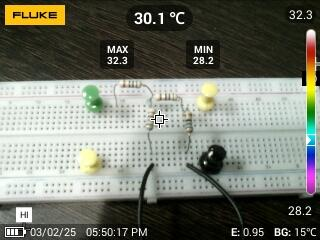resistor: (143, 105, 156, 133), (153, 91, 180, 103), (183, 109, 195, 135), (117, 78, 145, 89)
